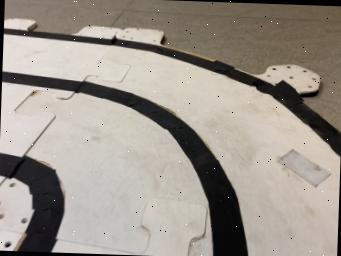street: (0, 28, 341, 256), (0, 28, 341, 256), (0, 28, 341, 256), (0, 28, 341, 256), (0, 28, 341, 256), (0, 28, 341, 256)
